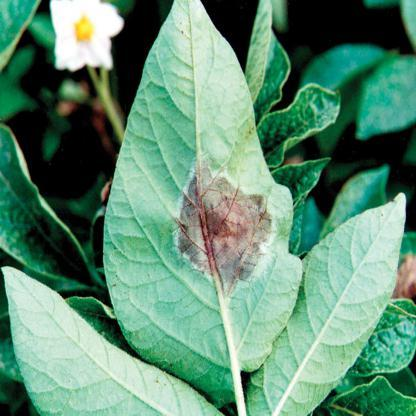Potato leaf: (99, 0, 300, 404)
